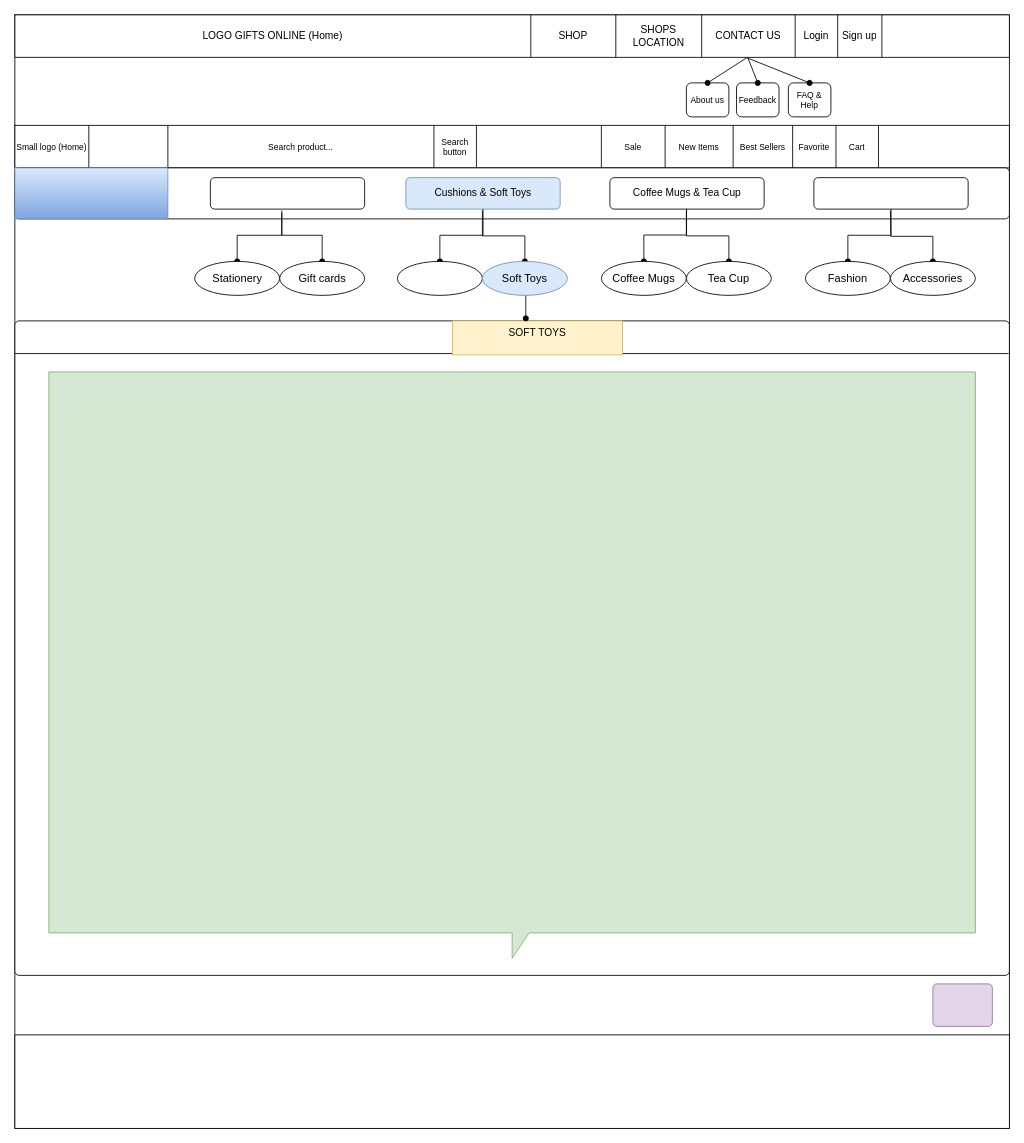
Some shapes in this 1024 by 1143 pixel diagram are drawn without their labels. Each missing label, with the centre of its shape:
"ALL PRODUCTS WILL BE SHOW HERE" belongs at point (511, 664).
"Button to Top" belongs at point (962, 1004).
"Category" belongs at point (91, 193).
"Cushions" belongs at point (439, 278).
"Fashion & Accessories" belongs at point (890, 193).
"FOOTER" belongs at point (511, 1081).
"Stationery & Gift cards" belongs at point (287, 193).
